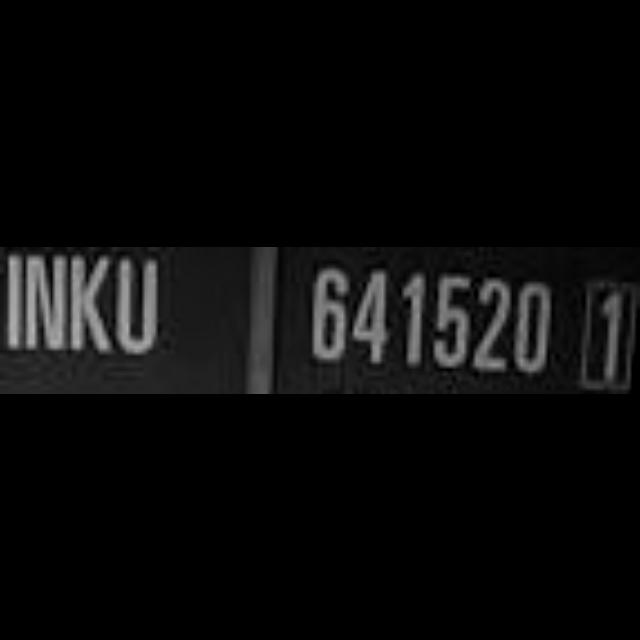0: (514, 276, 552, 372)
1: (593, 283, 629, 393), (399, 268, 427, 368)
2: (472, 274, 512, 372)
4: (352, 262, 394, 370)
5: (432, 268, 470, 369)
6: (307, 263, 349, 365)
i: (8, 249, 24, 353)
k: (70, 252, 112, 354)
n: (25, 250, 69, 354)
u: (118, 254, 164, 346)
